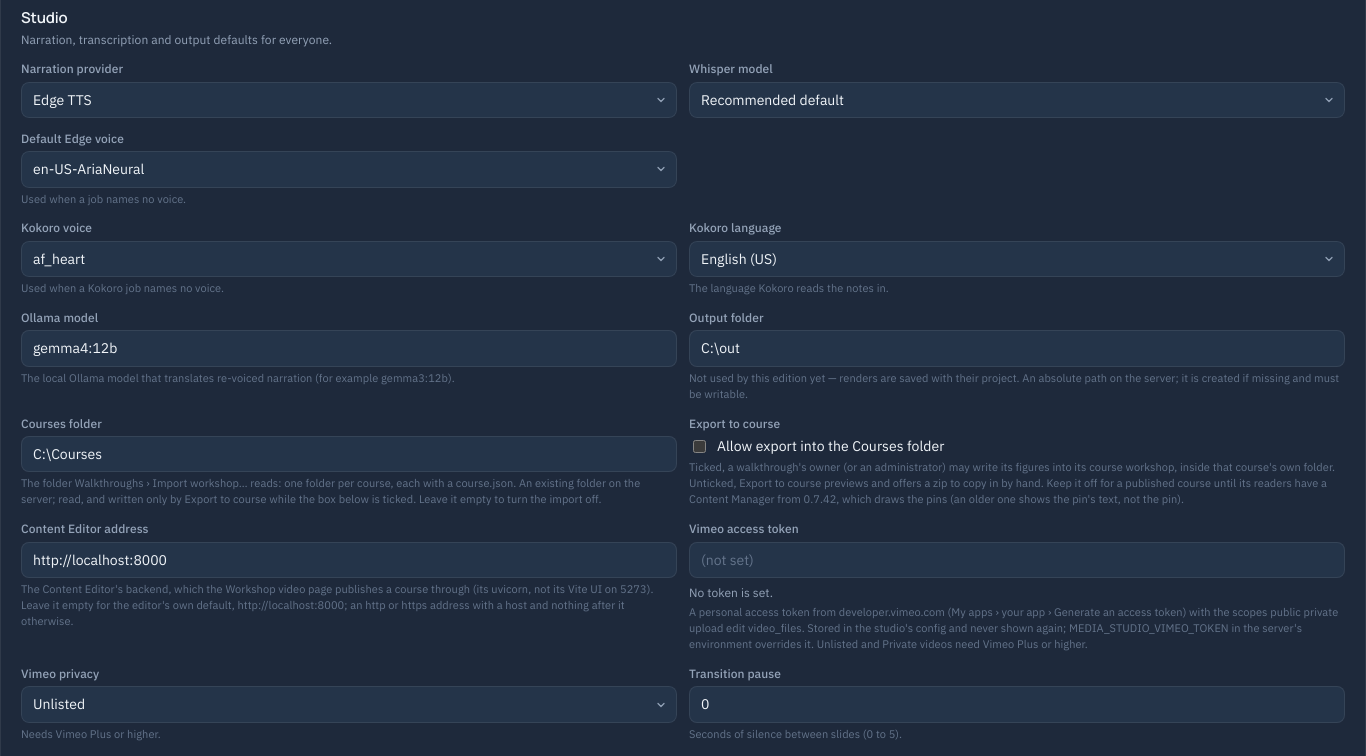
Test case: The Vimeo access token and privacy › the privacy select sends vimeo_privacy with the server's labels, and both are greyed out for an editor
Select "Anybody" in the dropdown labelled "Vimeo privacy Needs Vimeo Plus or higher.": (349, 705) [21,686,677,723]
(page scrolled)
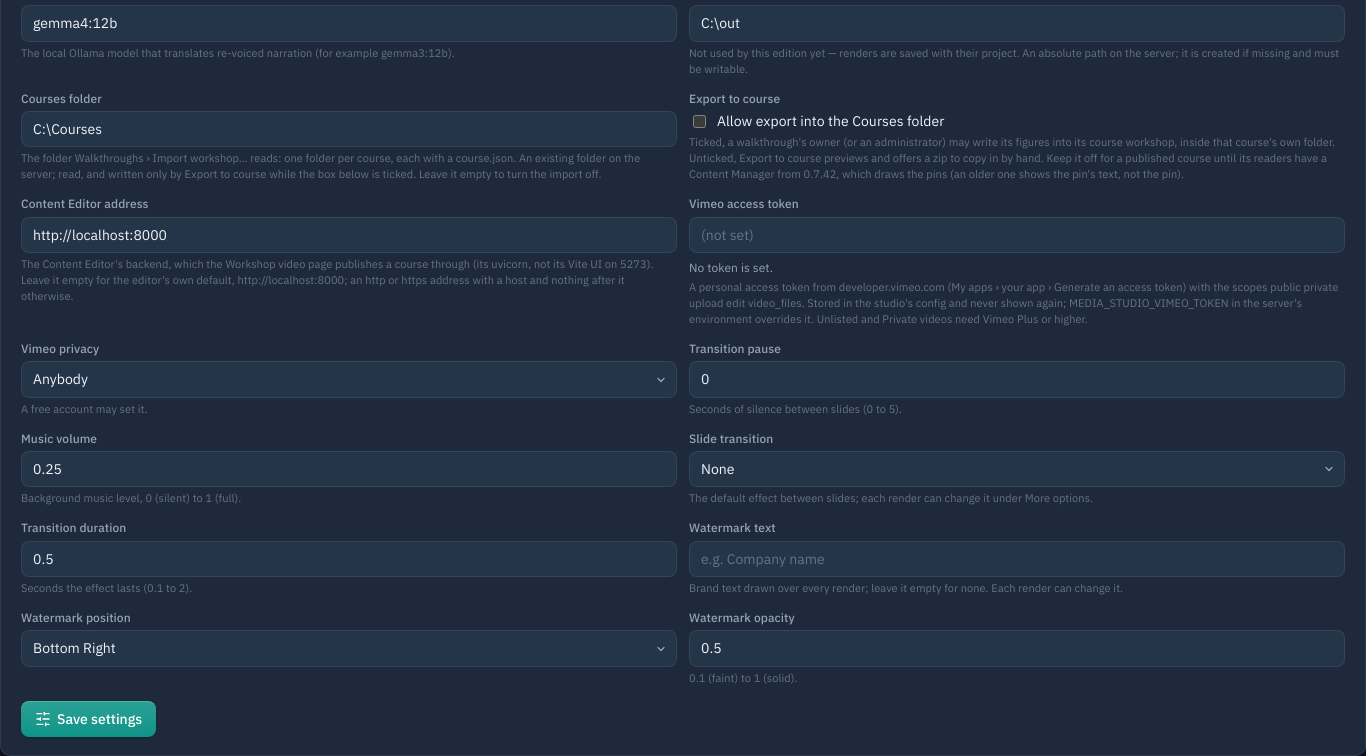
Click the button "Save settings": click(89, 719) [21,701,156,737]
(page scrolled)
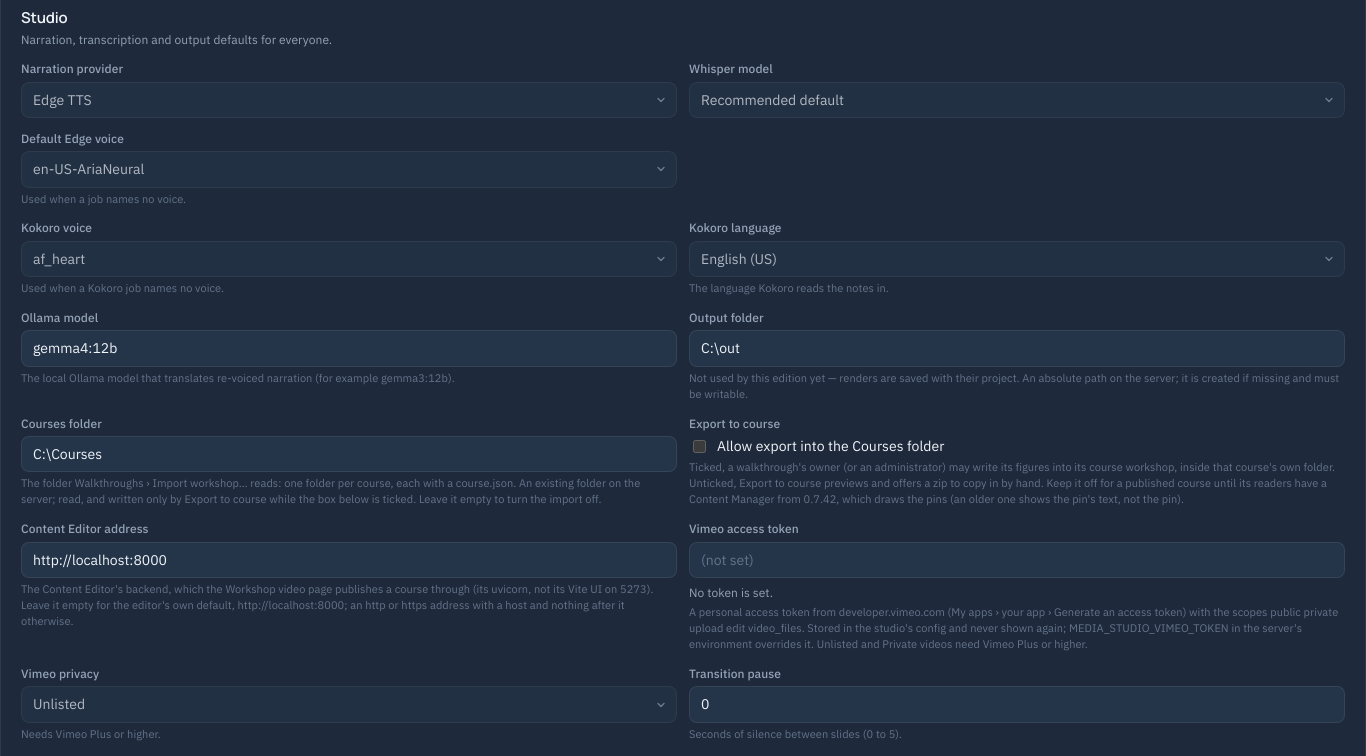
Result: the password field is disabled at [689,542,1345,578]
Result: the dropdown labelled "Vimeo privacy Needs Vimeo Plus or higher." is disabled at [21,686,677,723]
